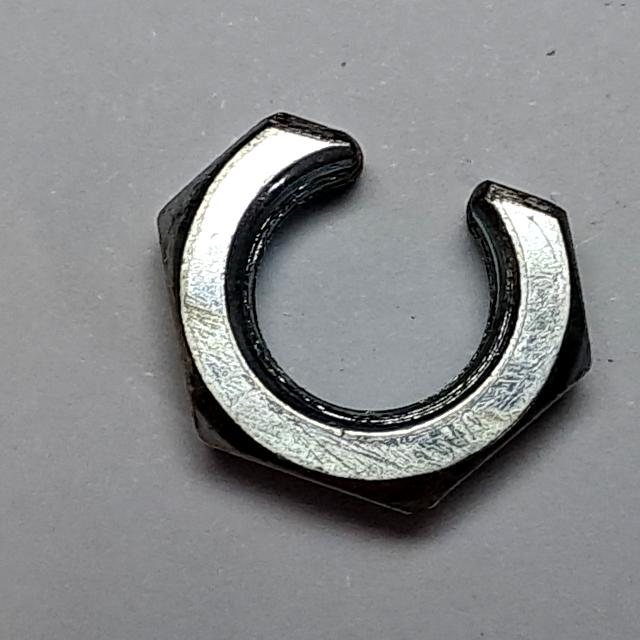Fracture: (143, 98, 614, 533)
